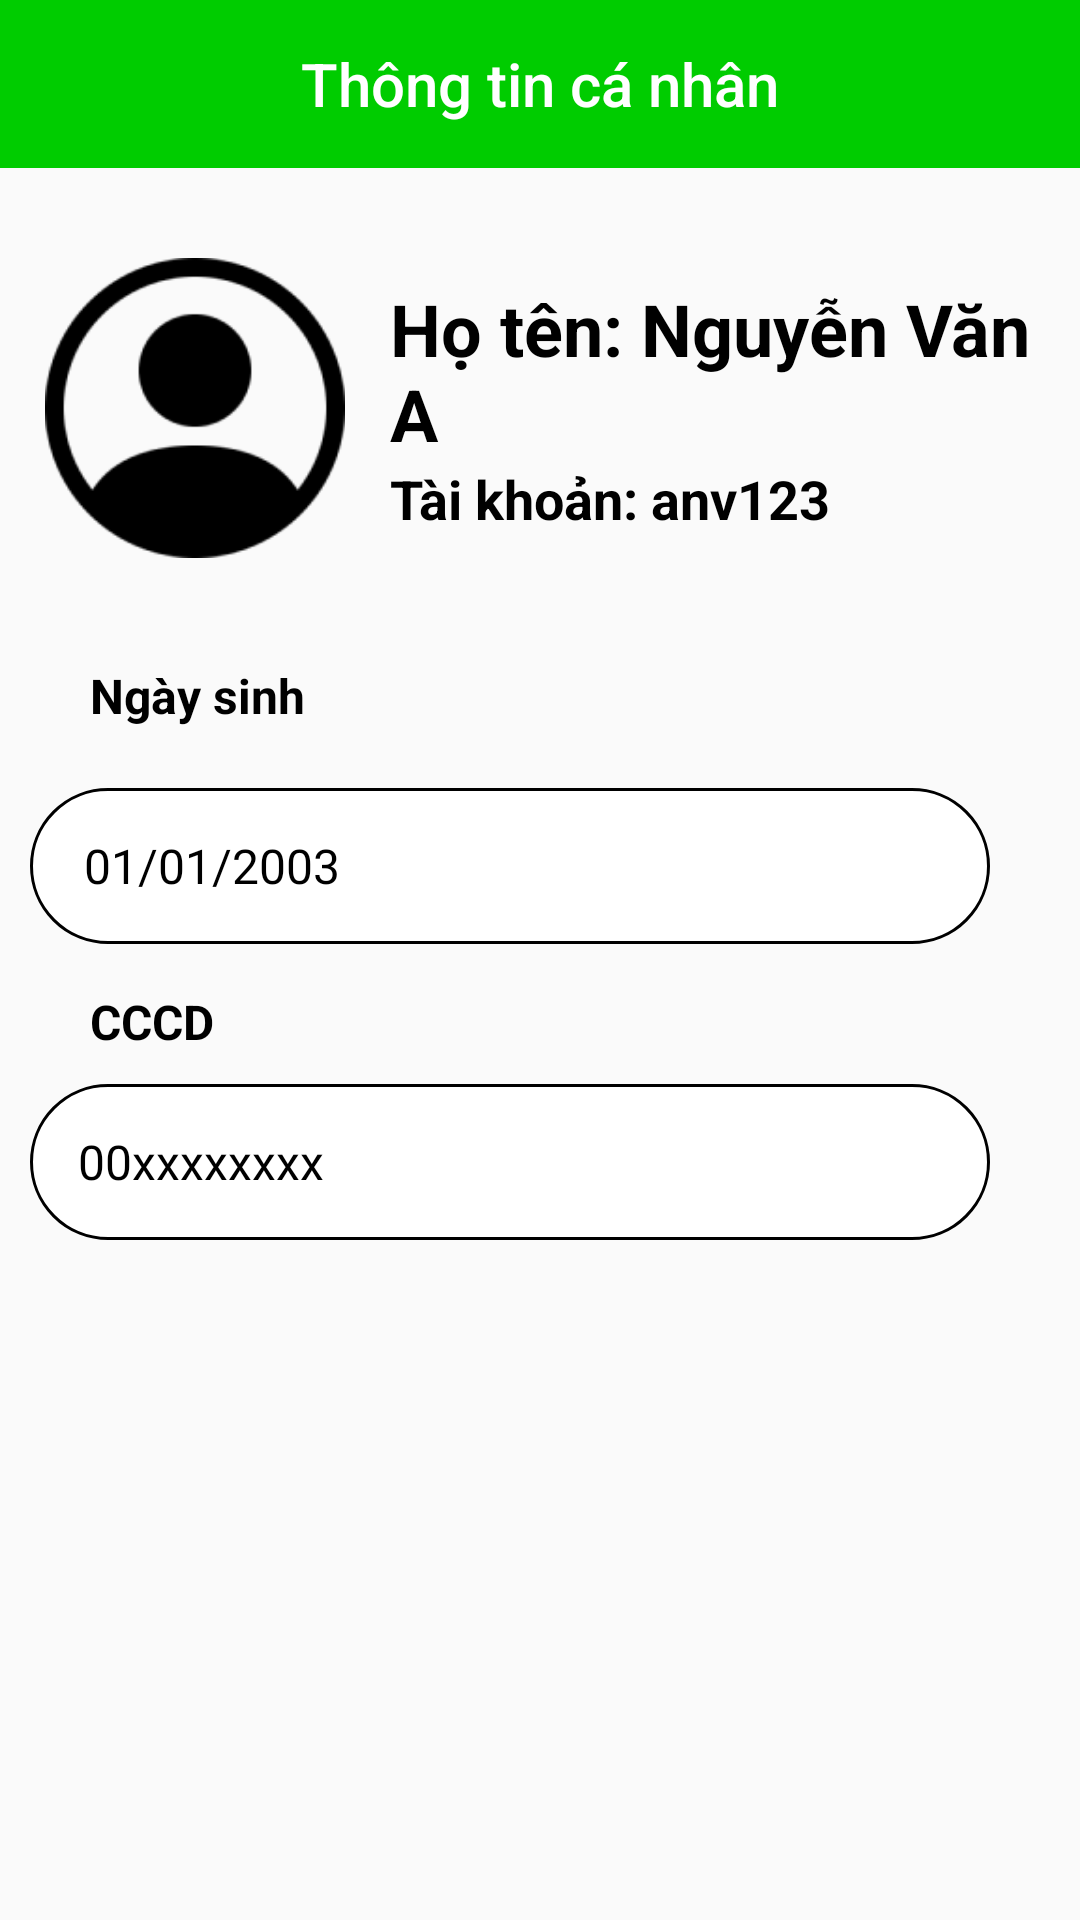

Icon bounding boxes for this 1080px×1920px phone screenshot, format (x1, y1, x2, y2):
nhanvien: (45, 258, 345, 558)
